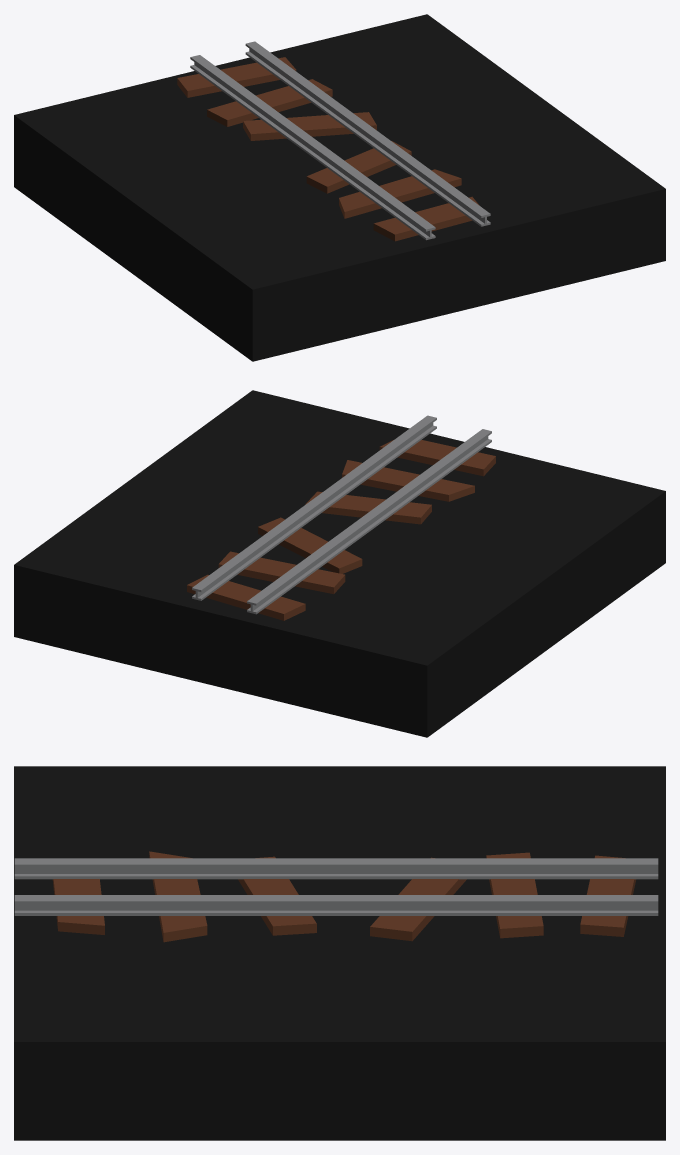
3 renders of one model, top to bottom at view 1: azimuth 30°, elevation 25°; view 2: azimuth 150°, elevation 25°; view 3: azimuth 270°, elevation 25°, orthographic. The views are drawn at different scales.
Visible parts, largest first — view 1: Node_3; view 2: Node_3; view 3: Node_3.
Part boxes in pixels (left/top/right/bottom): Node_3: left=14, top=14, right=665, bottom=361; Node_3: left=14, top=390, right=665, bottom=737; Node_3: left=14, top=766, right=665, bottom=1140.
Bounding box in the file's own units: 118 × 24.48 × 118.
